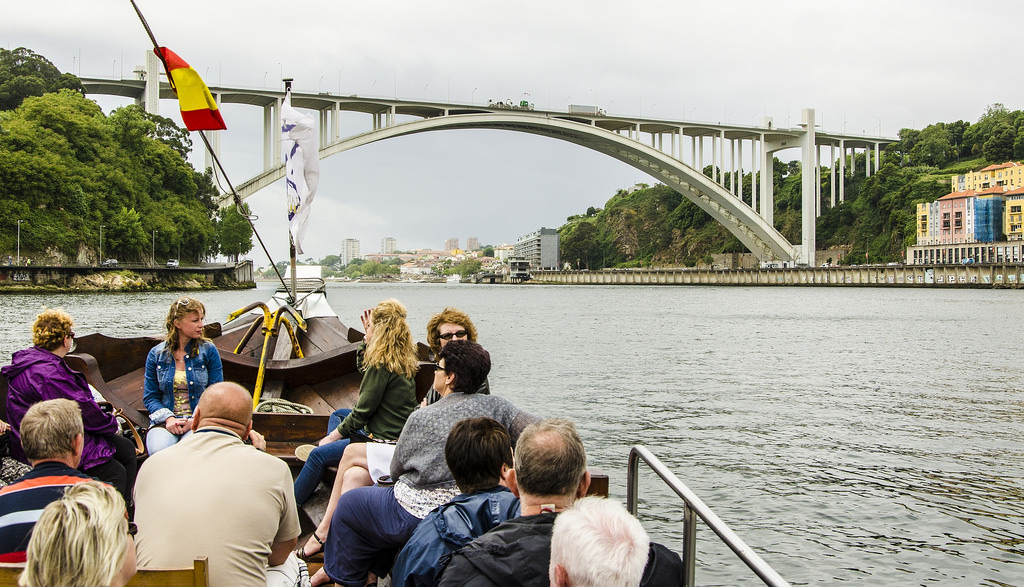arrabida: (57, 48, 901, 269)
